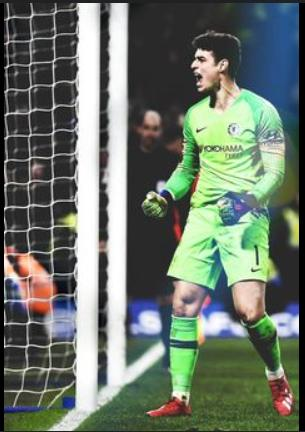goalkeeper: (133, 19, 295, 424)
